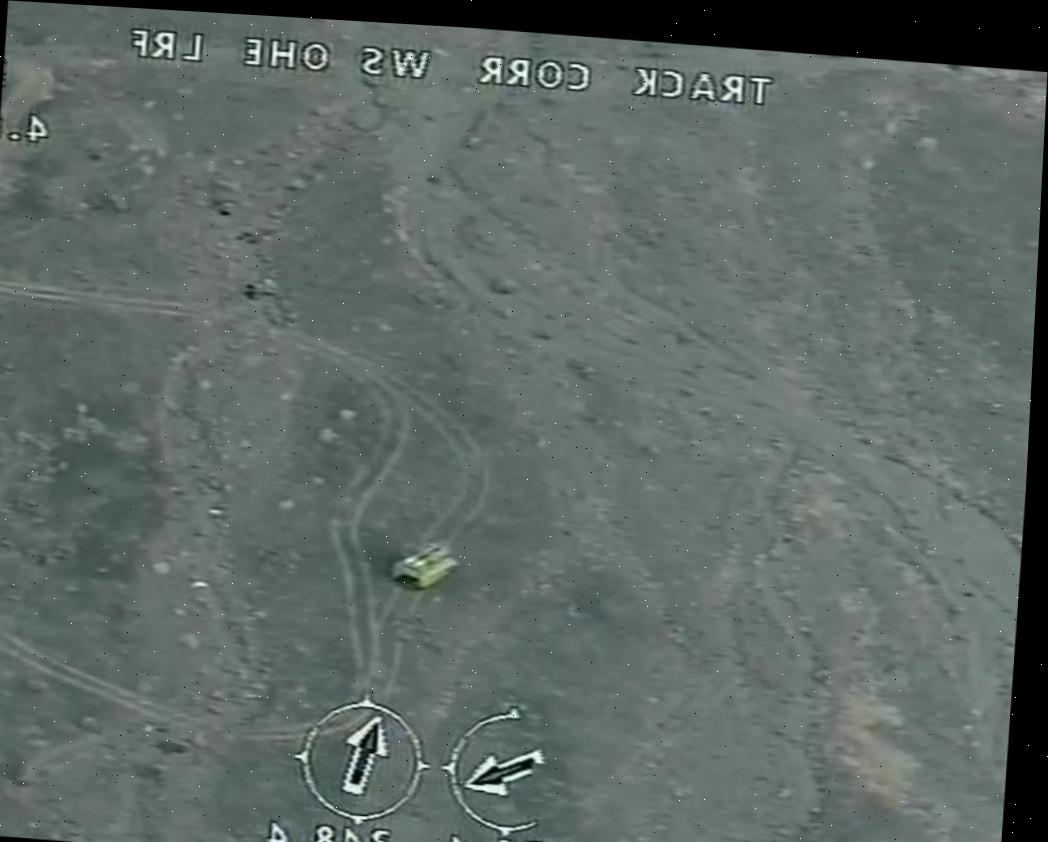armored_car: (387, 534, 462, 599)
